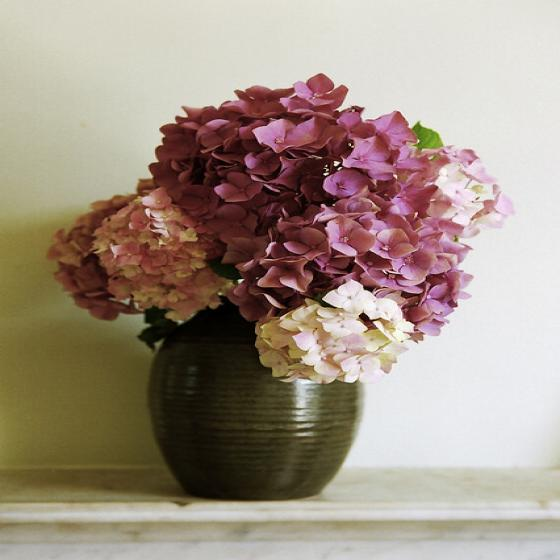vase: (147, 296, 368, 501)
